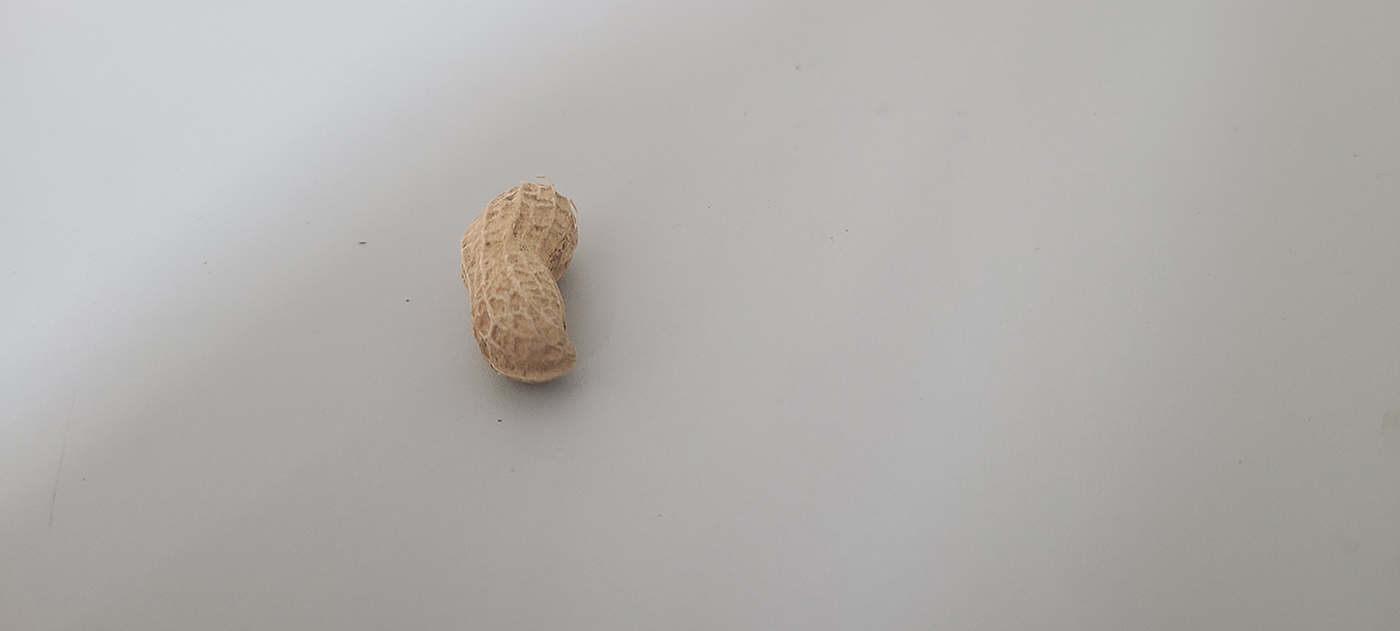h: (461, 180, 583, 384)
